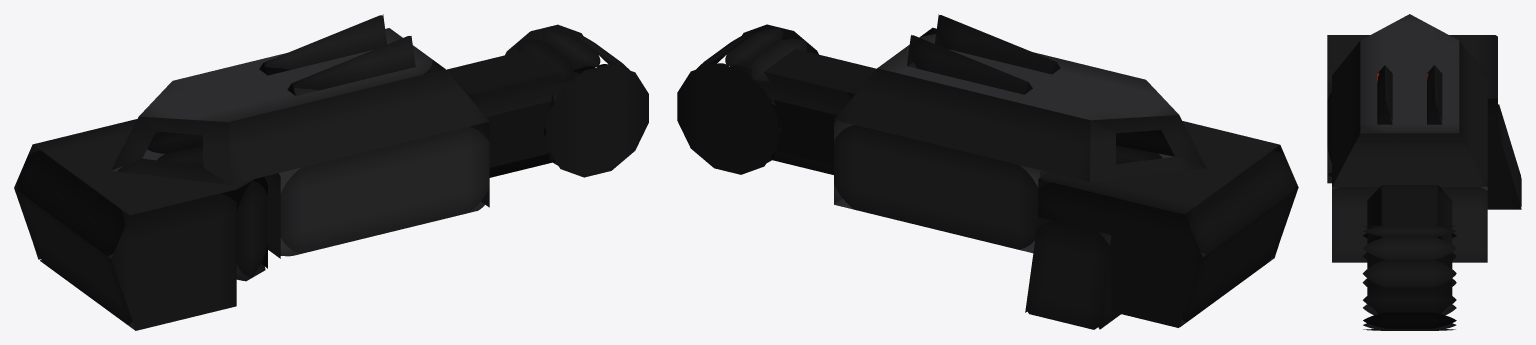
Rendered from Blackwing Left Arm.obj.
3 views of the same model, side by side, from view 1: azimuth 30°, elevation 25°; view 2: azimuth 150°, elevation 25°; view 3: azimuth 270°, elevation 25° (orthographic). The views are drawn at different scales.
Visible parts, largest first — view 1: Forearm, cuboid, cylinder, Arm; view 2: Forearm, cuboid, cylinder, Arm; view 3: Forearm, cylinder, cuboid, Arm.
Boxes of the visible parts, x1,y1,x2,y2 form: Forearm: (111,14,489,258); cuboid: (14,119,267,330); cylinder: (505,24,648,177); Arm: (446,49,594,177); Forearm: (834,14,1206,253); cuboid: (1025,121,1298,329); cylinder: (677,24,818,174); Arm: (730,49,876,174); Forearm: (1332,14,1487,262); cylinder: (1362,225,1456,330); cuboid: (1327,35,1521,209); Arm: (1367,185,1452,313).
Bounding box in the file's own units: 0.75 × 0.2656 × 0.2578.
Materials: 1 (1 with a texture image).
